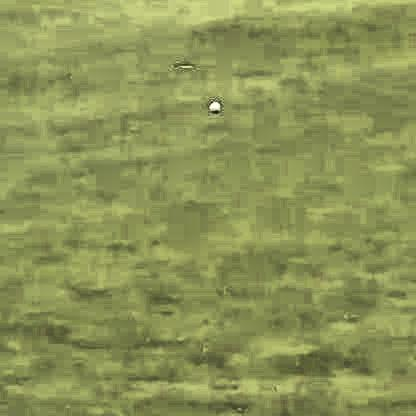golfball: (207, 98, 219, 112)
